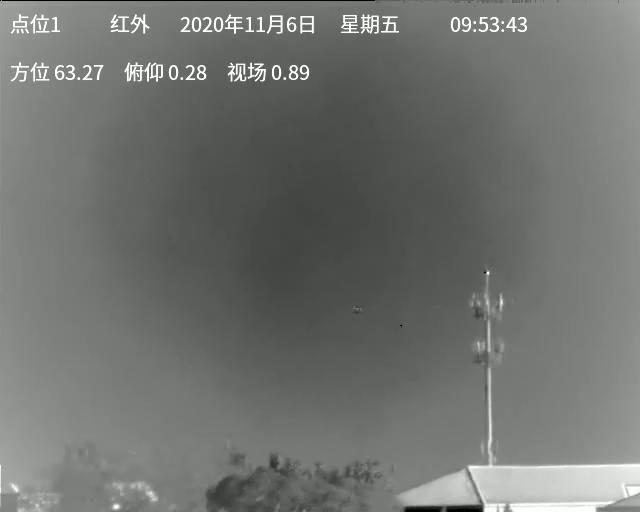uav: (351, 305, 364, 315)
